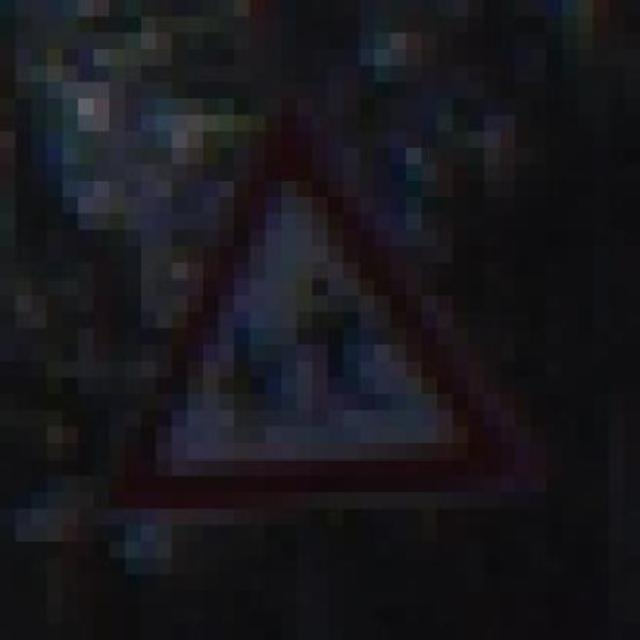Beware of children: (62, 99, 547, 542)
